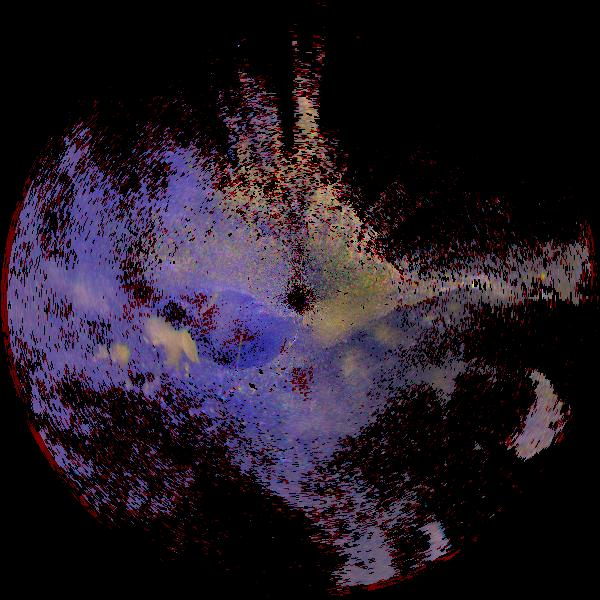roost: (82, 289, 229, 436)
